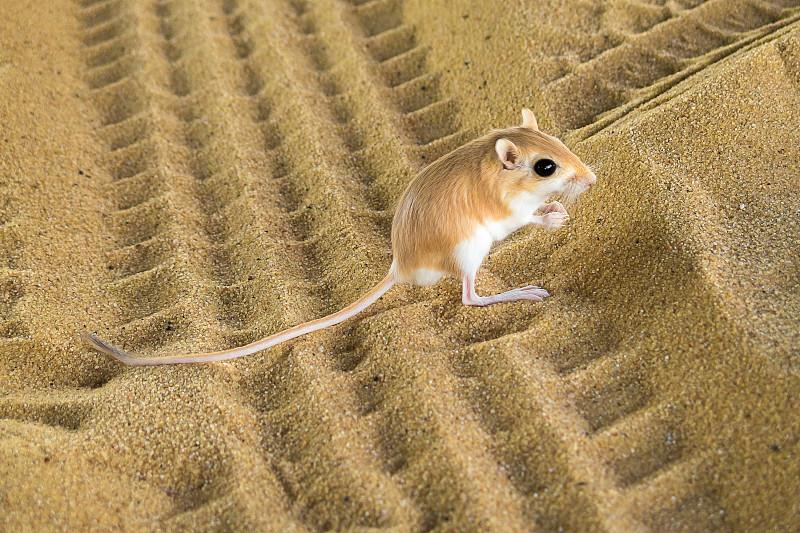rat: (368, 106, 605, 315)
